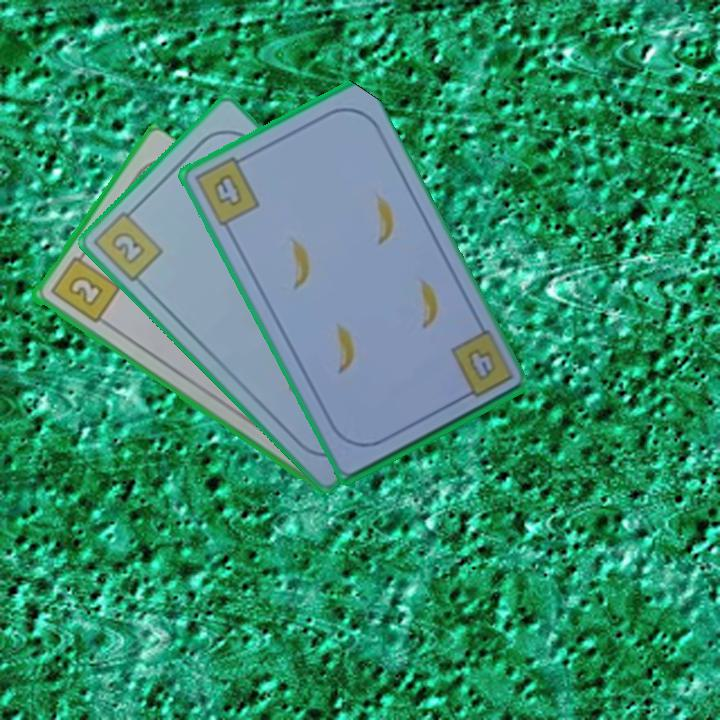2b: (90, 201, 166, 285), (46, 247, 122, 326)
4b: (190, 151, 262, 229), (463, 344, 499, 384)
